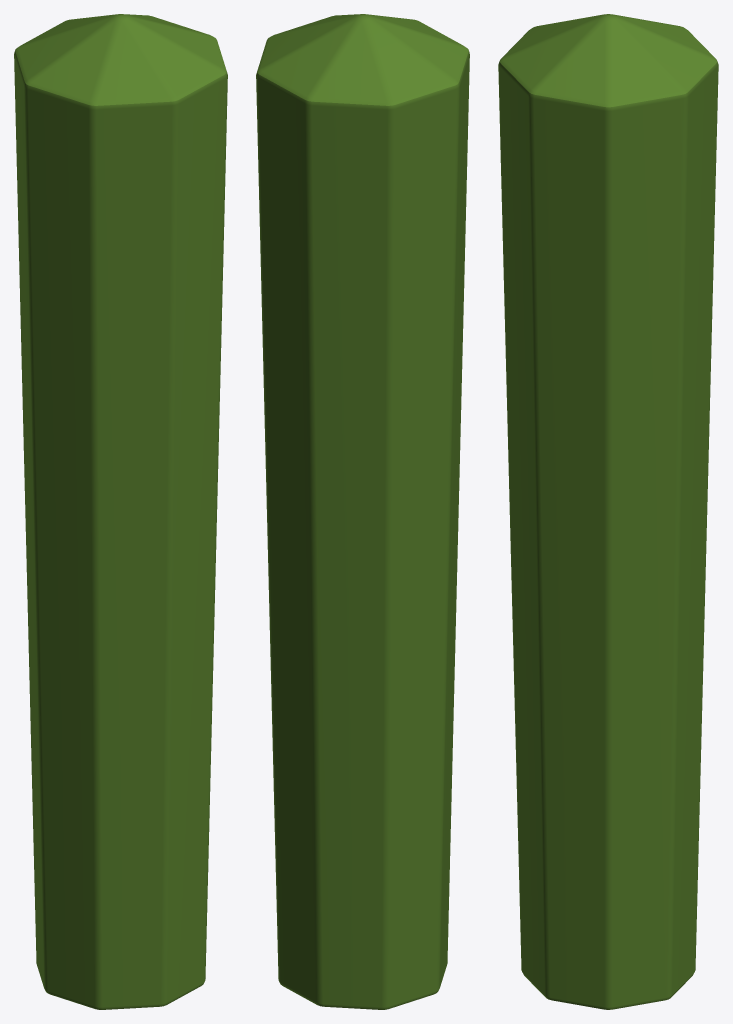
Rendered from SimpleCactus.fbx.
The picture shows the model from 3 angles, left to right: view 1: azimuth 30°, elevation 25°; view 2: azimuth 150°, elevation 25°; view 3: azimuth 270°, elevation 25°; orthographic projection.
Parts seen in each view (by area): view 1: SimpleCactus; view 2: SimpleCactus; view 3: SimpleCactus.
Boxes of the visible parts, <box> form: SimpleCactus: <box>14,14,227,1009</box>; SimpleCactus: <box>256,14,469,1009</box>; SimpleCactus: <box>498,14,718,1009</box>.
Size of the model in its own units: 0.9013 by 4.32 by 0.9.
